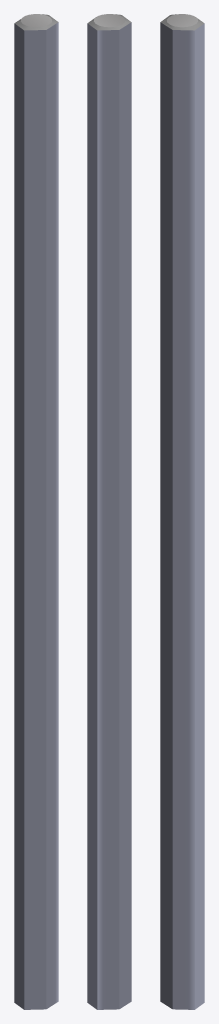
Rendered from gElement_Cyl.fbx.
The picture shows the model from 3 angles, left to right: view 1: azimuth 30°, elevation 25°; view 2: azimuth 210°, elevation 25°; view 3: azimuth 330°, elevation 25°; orthographic projection.
Parts seen in each view (by area): view 1: gElement_Cyl; view 2: gElement_Cyl; view 3: gElement_Cyl.
Part boxes in pixels (x1,y1,x2,y2): gElement_Cyl: (14, 14, 58, 1009); gElement_Cyl: (87, 14, 131, 1009); gElement_Cyl: (160, 14, 204, 1009).
Bounding box in the file's own units: 101 × 2760 × 101.
